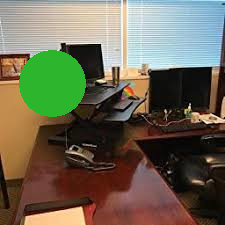focus: (9, 45, 93, 116)
